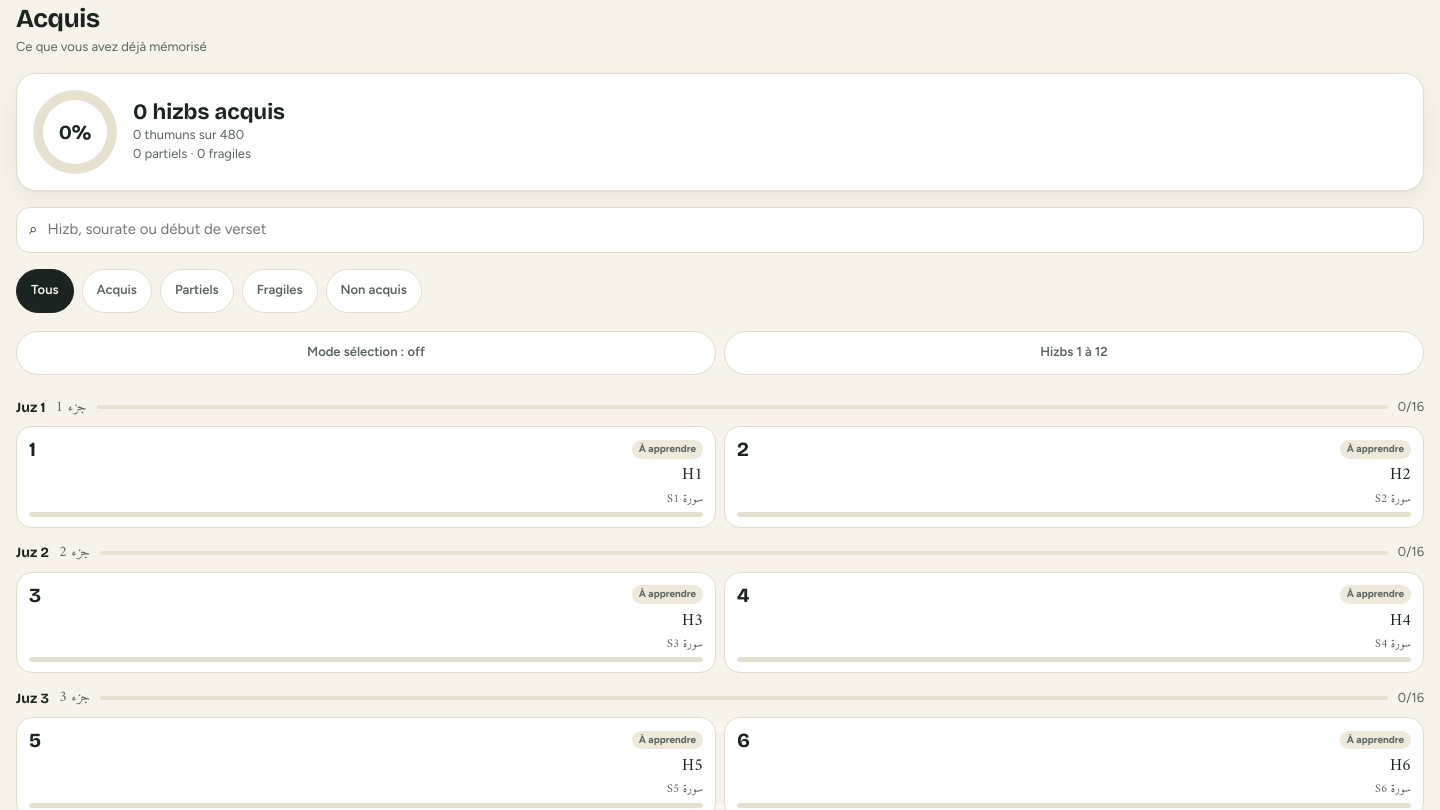
Test: Acquis : appui long › micro-mouvement puis relâche = tap ; l’appui long reste possible
Press the mouse on the button "3 À apprendre H3 سورة S3" at [667, 595], box [16,572,716,673]
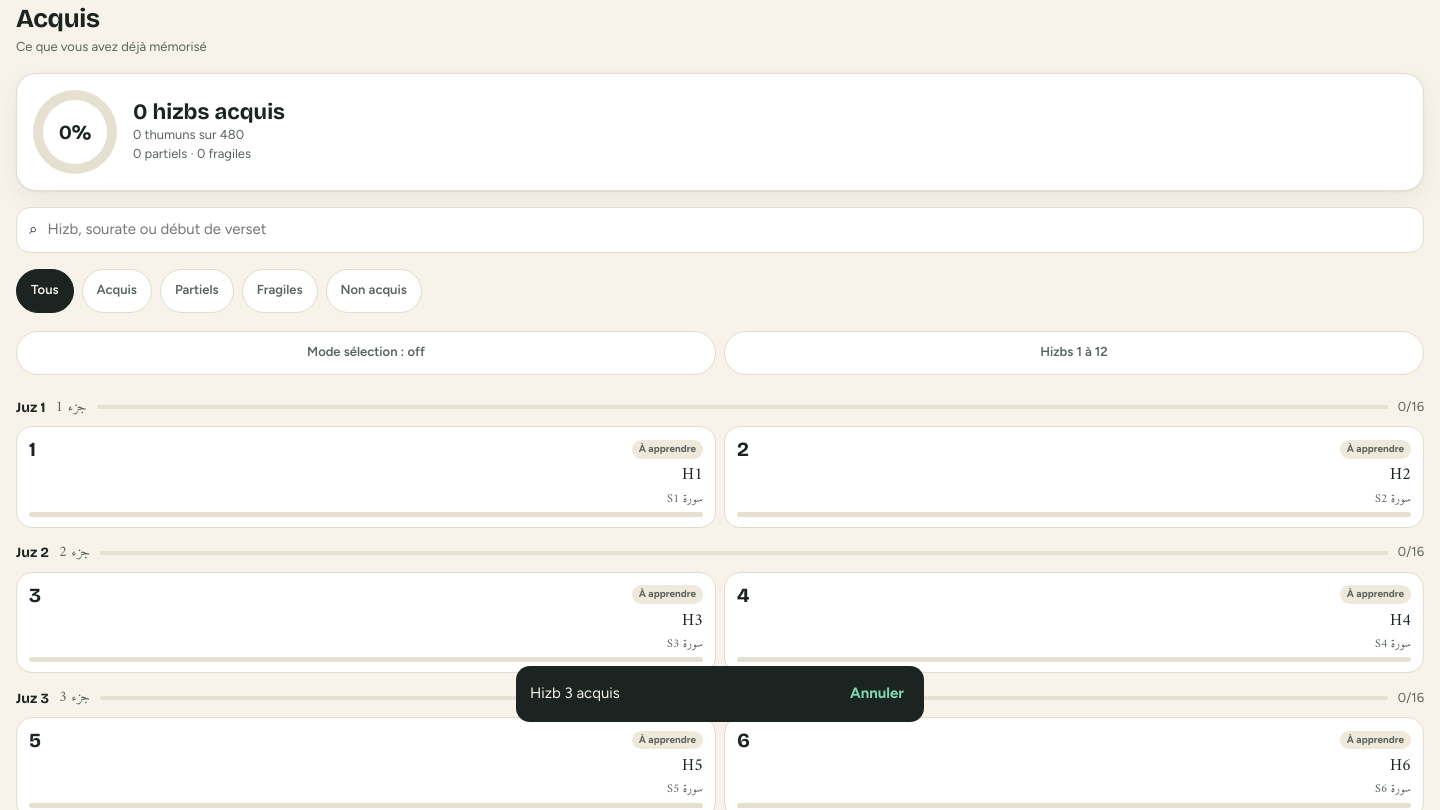
Press the mouse on the button "4 À apprendre H4 سورة S4" at [1375, 595], box [724,572,1424,673]
Wait 450 ms
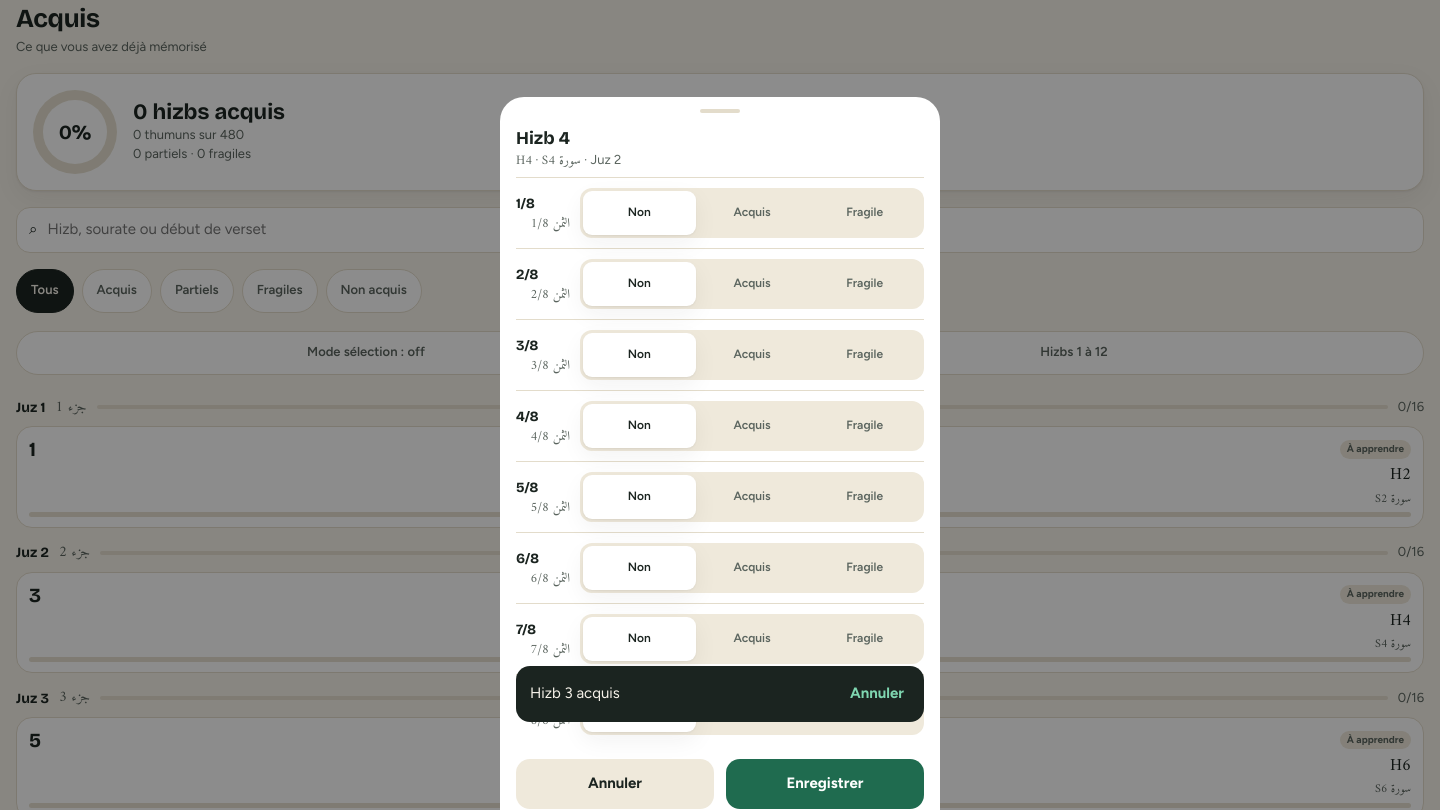
Now the dialog is shown, box [500,97,940,809]
